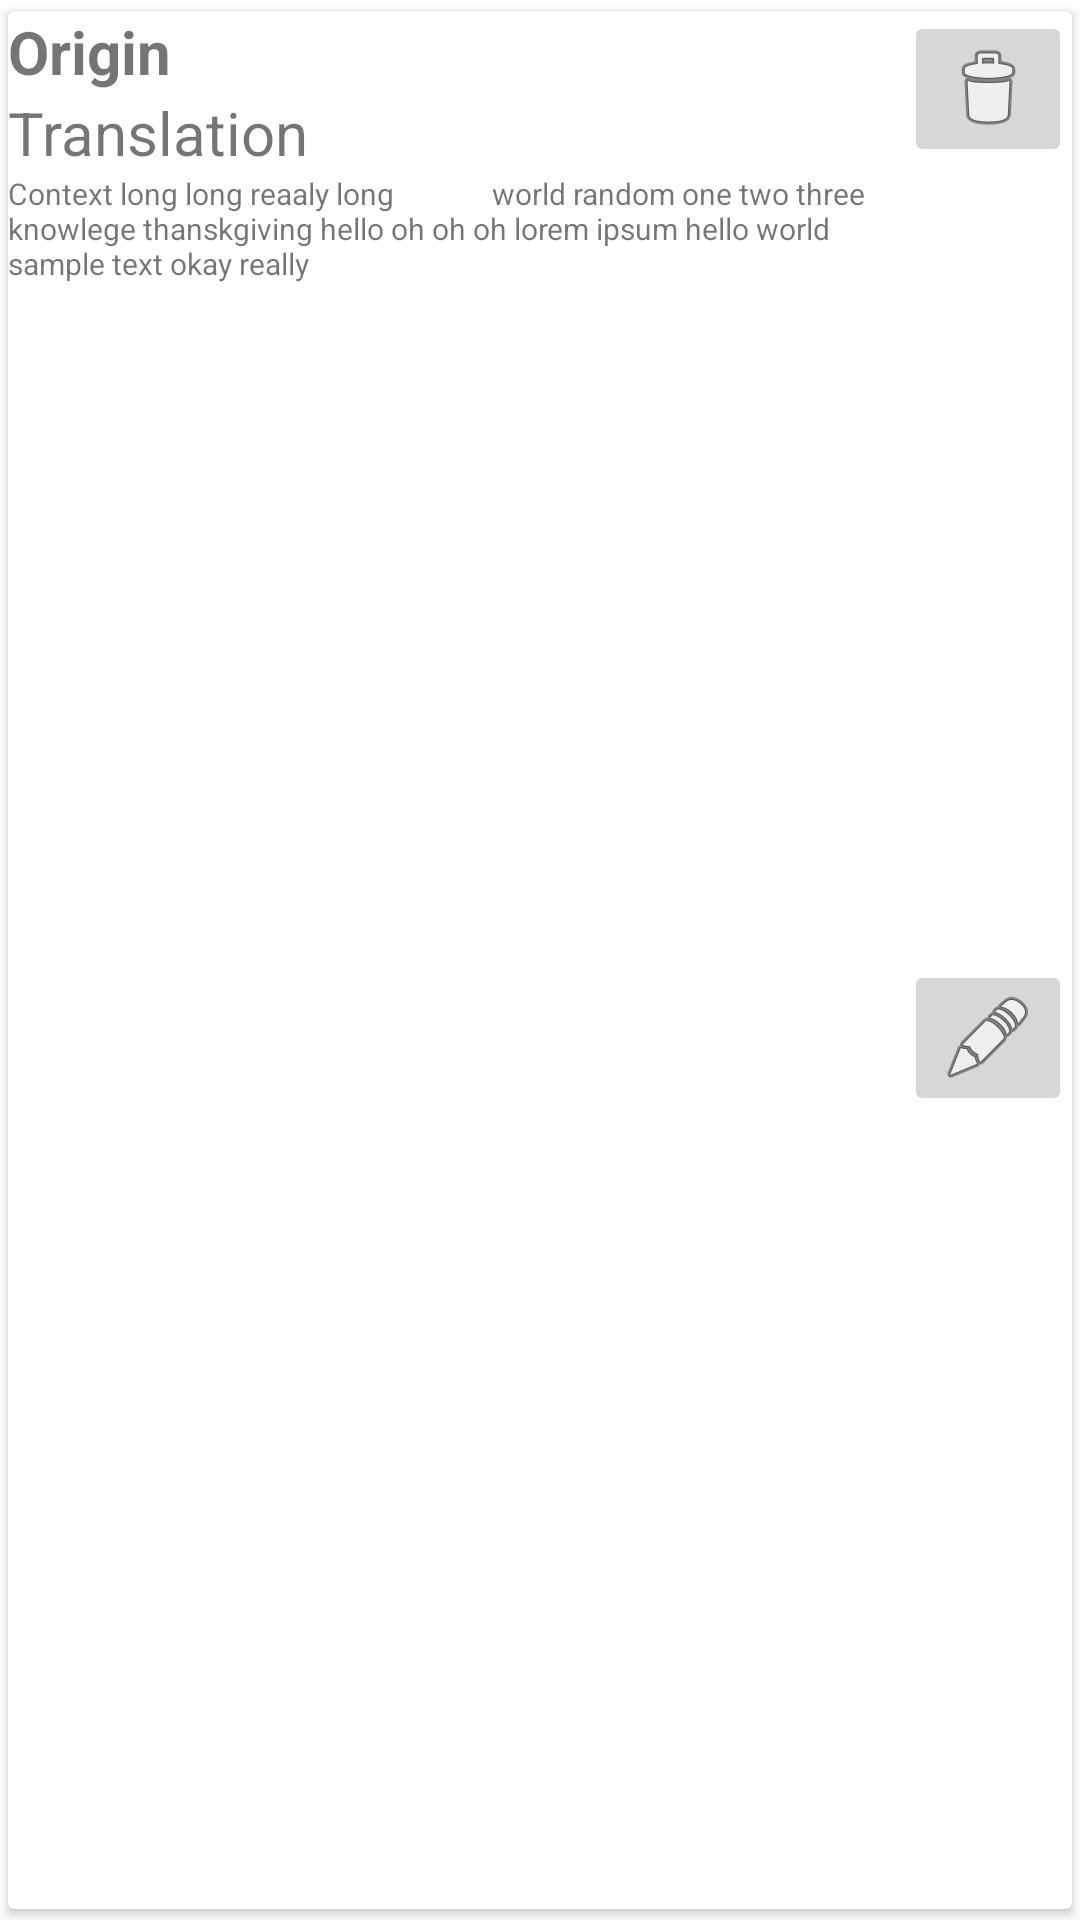

Locate icon controls on the screen. Image size 1080×1920, boxes as (x1, y1, x2, y2).
delete: (916, 12, 1072, 149)
edit: (916, 978, 1060, 1098)
